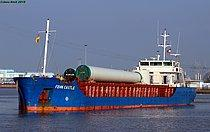Ship: (11, 19, 201, 120)
